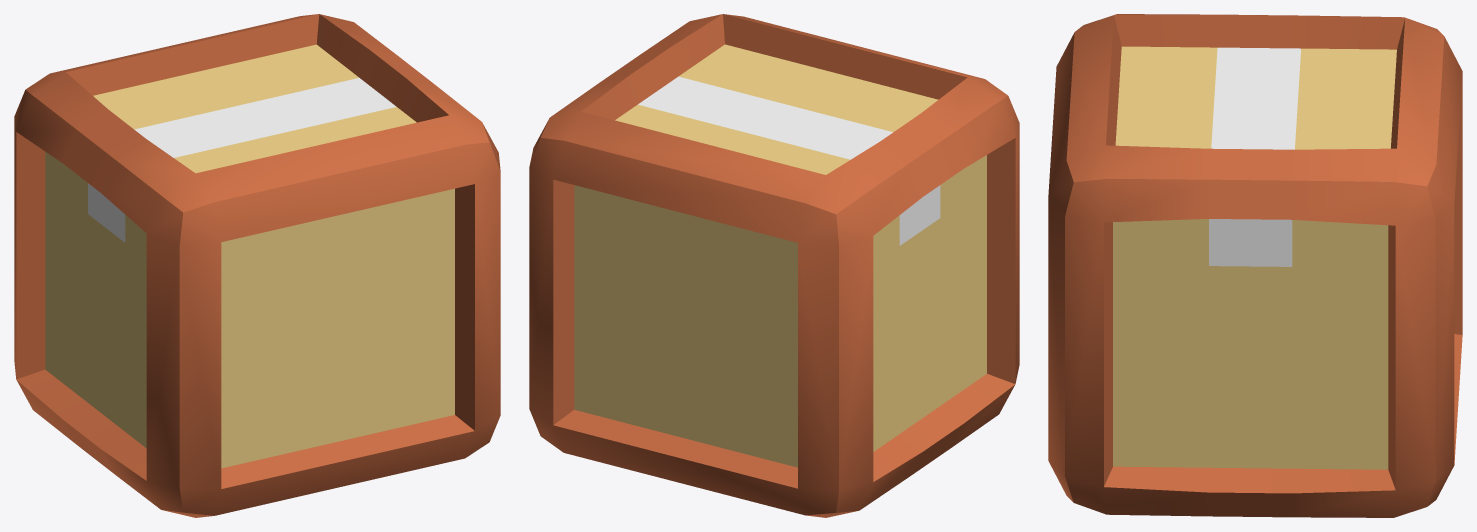
Rendered from Props_Box_Wood_01.fbx.
The picture shows the model from 3 angles, left to right: view 1: azimuth 30°, elevation 25°; view 2: azimuth 150°, elevation 25°; view 3: azimuth 270°, elevation 25°; orthographic projection. The views are drawn at different scales.
Parts seen in each view (by area): view 1: Props_Box_Wood_01; view 2: Props_Box_Wood_01; view 3: Props_Box_Wood_01.
Part boxes in pixels (x1,y1,x2,y2): Props_Box_Wood_01: (14, 14, 500, 517); Props_Box_Wood_01: (529, 14, 1019, 517); Props_Box_Wood_01: (1048, 14, 1462, 517).
Size of the model in its own units: 66.24 by 61.76 by 62.97.
